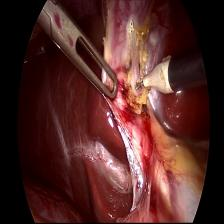Grasper: (39, 0, 119, 101)
Hook: (134, 46, 206, 98)
